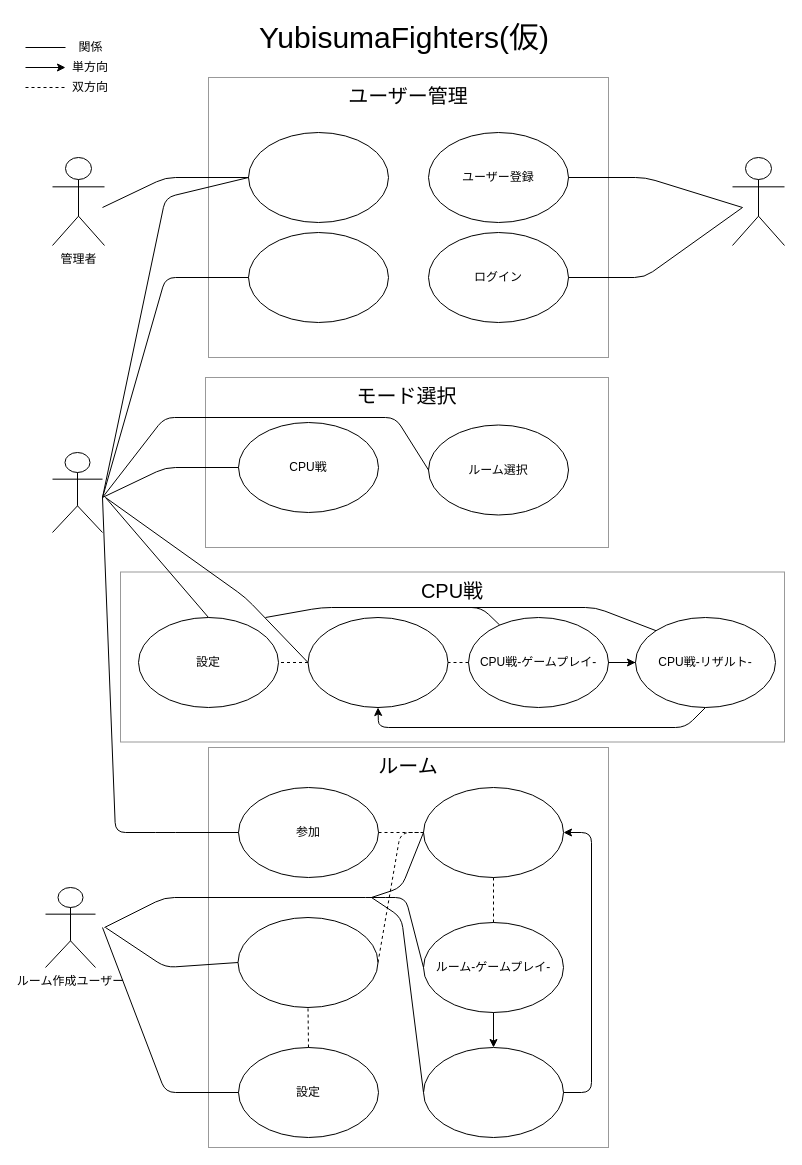
The diagram is 802 pixels wide and 1165 high, and some of its shapes have lost their labels. Here are the shapes that lost their labels. From the top down, the centre of each, then its label:
At pixel 318 177: "ユーザー削除".
At pixel 758 201: "利用者".
At pixel 318 277: "ログアウト".
At pixel 77 492: "ユーザー".
At pixel 377 662: "CPU戦-待機画面-".
At pixel 493 832: "ルーム-待機画面-".
At pixel 307 962: "作成".
At pixel 493 1092: "ルーム-リザルト-".
